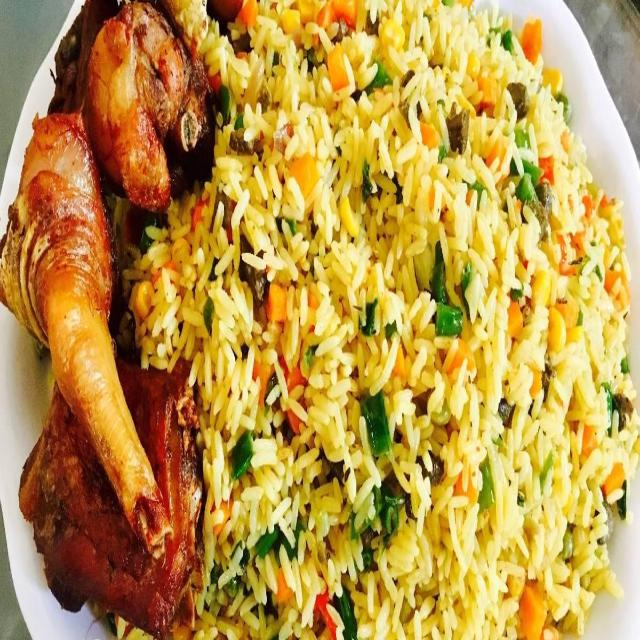Nasi Goreng: (117, 1, 636, 637)
